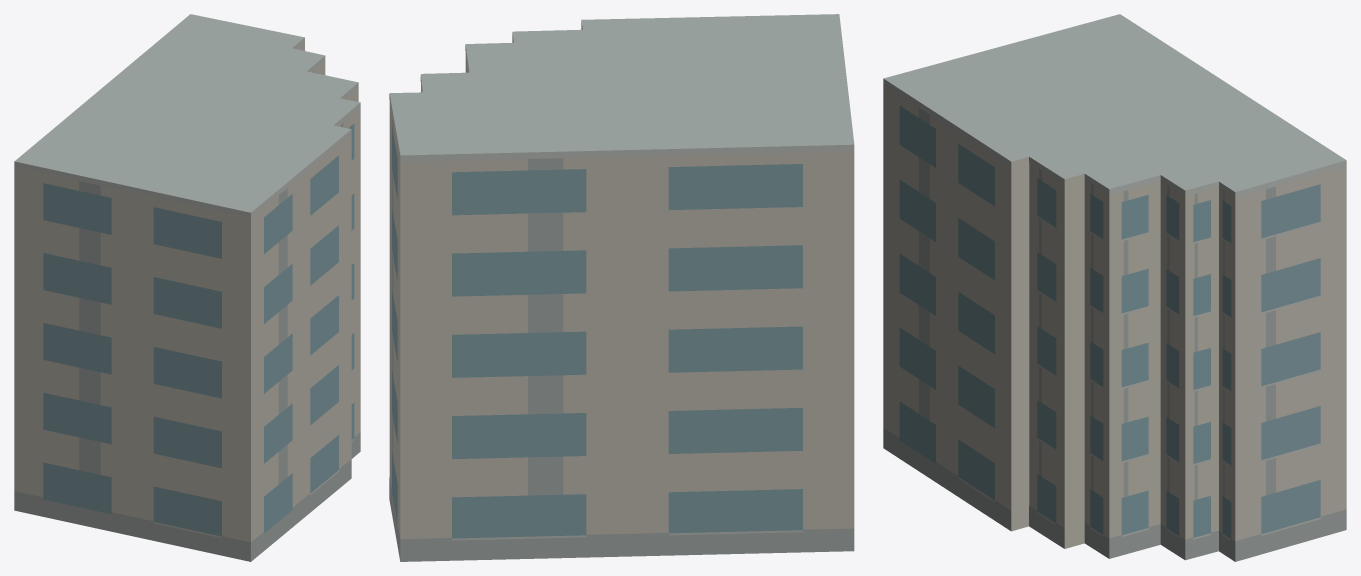
The model's file is survey-upis-32990770.glb.
3 views of the same model, side by side, from view 1: azimuth 30°, elevation 25°; view 2: azimuth 150°, elevation 25°; view 3: azimuth 270°, elevation 25° (orthographic). The views are drawn at different scales.
Visible parts, largest first — view 1: survey-upis-32990770.tmp; view 2: survey-upis-32990770.tmp; view 3: survey-upis-32990770.tmp.
Part boxes in pixels (box(x1,y1,x2,y2)): survey-upis-32990770.tmp: box(14, 14, 360, 561); survey-upis-32990770.tmp: box(389, 14, 854, 561); survey-upis-32990770.tmp: box(883, 14, 1346, 561).
Size of the model in its own units: 15.78 by 15.25 by 17.33.
